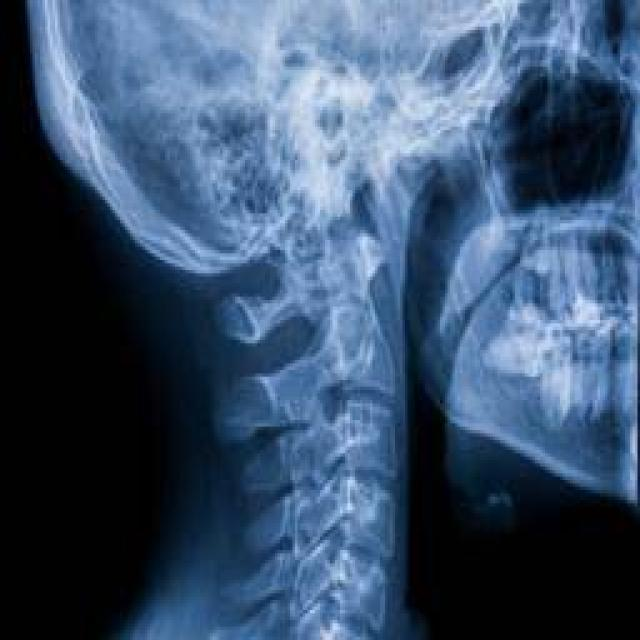Spiral: (362, 176, 579, 382)
